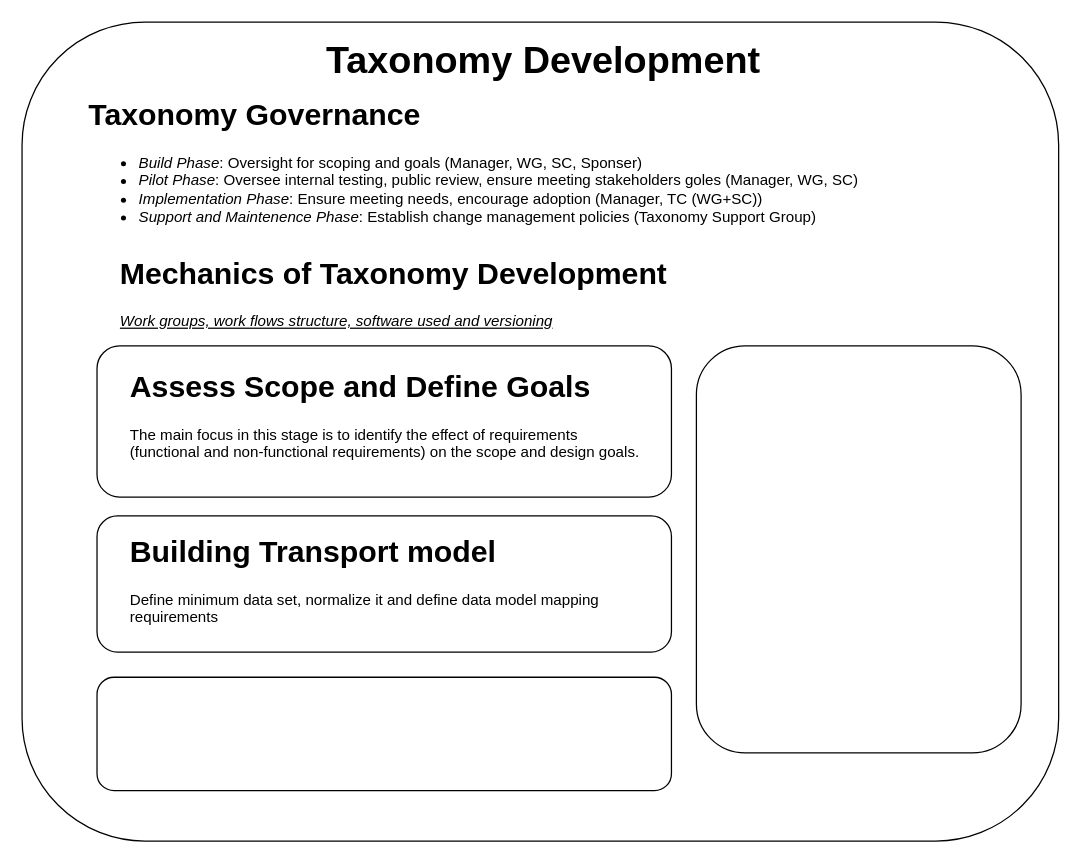
Some shapes in this 1081 by 863 pixel diagram are drawn without their labels. Each missing label, with the centre of its shape:
"Documenting a Taxonomy White paper Taxonomy Guide Preparer Guide Consumer Guider" goes at [858,549].
"Validation Basic Validation and Business rules validation decisions" goes at [383,733].
